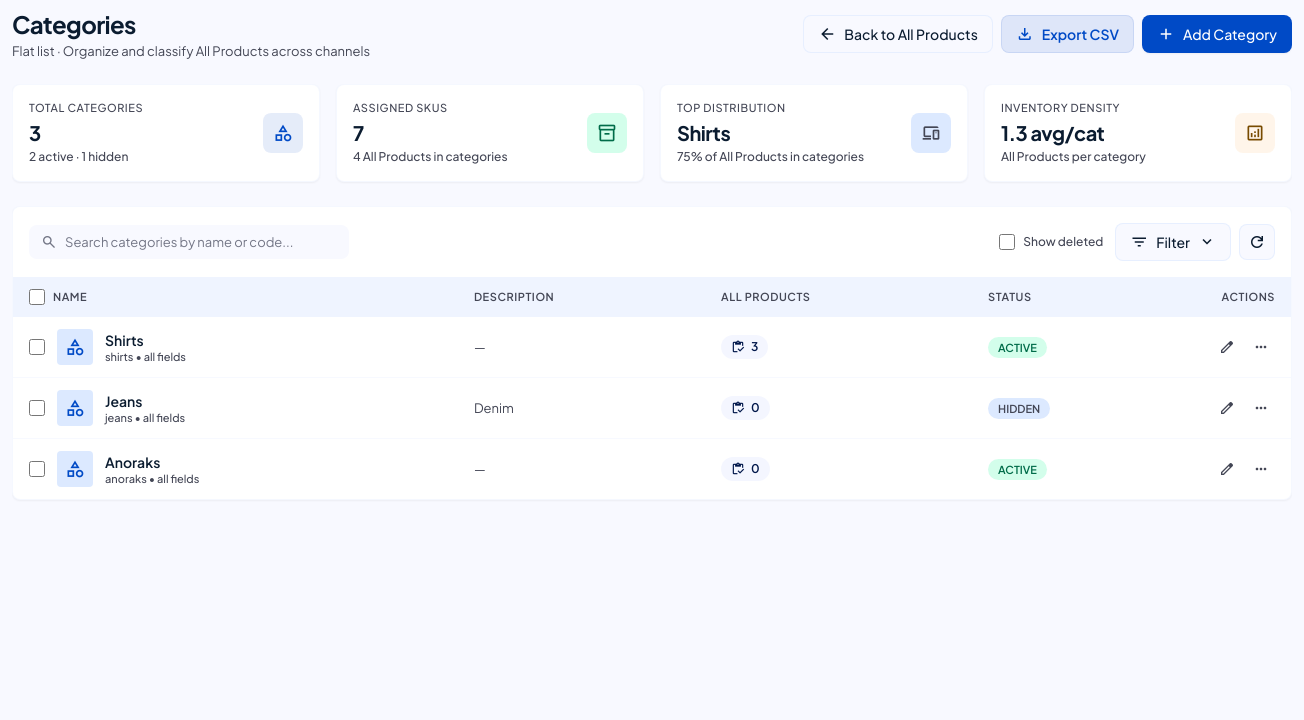
Test: CategoryTreePage — search, filter, sort, show deleted › reorders with up / down by sending the full list of siblings
This screenshot has width=1304, height=720.
Click the button named "More actions for Jeans".
click(1261, 408)  # box [1247, 394, 1275, 422]
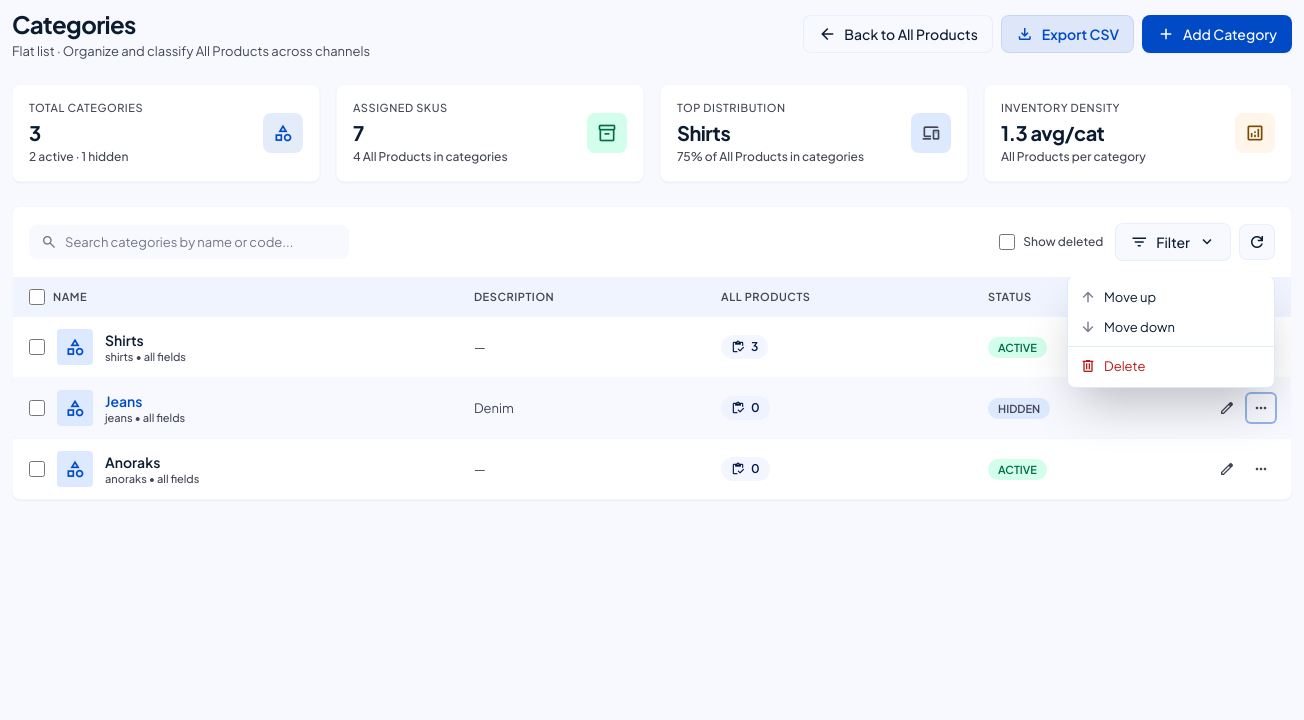
Click the menu item with aria-label "Move Jeans up".
click(1171, 297)  # box [1068, 282, 1274, 312]
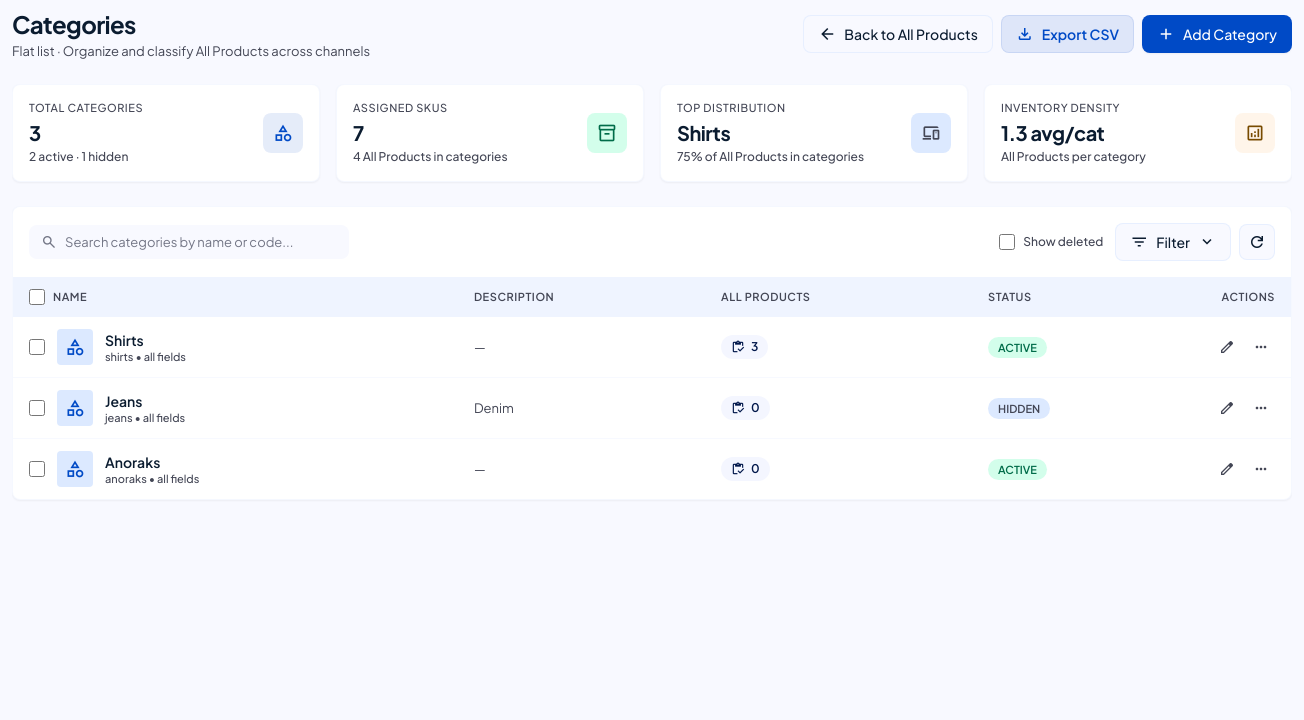
Click the button named "More actions for Shirts".
click(1261, 347)  # box [1247, 333, 1275, 361]
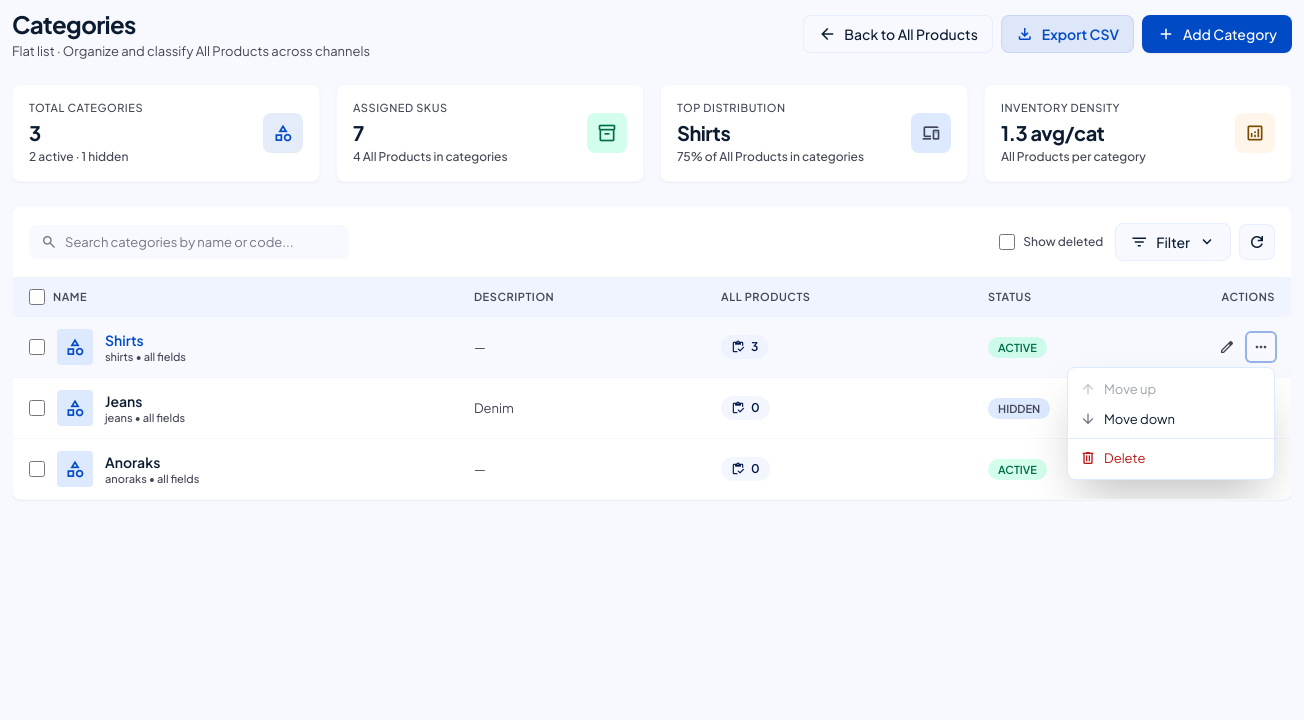
Check: the menu item with aria-label "Move Shirts up" is disabled, box [1068, 374, 1274, 404]
